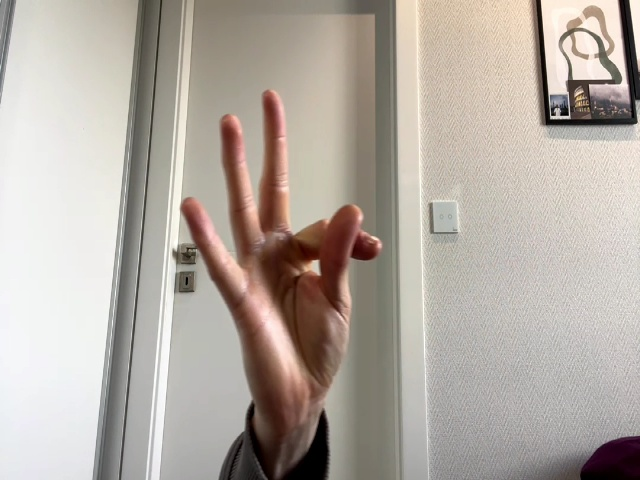T: (182, 90, 382, 394)
